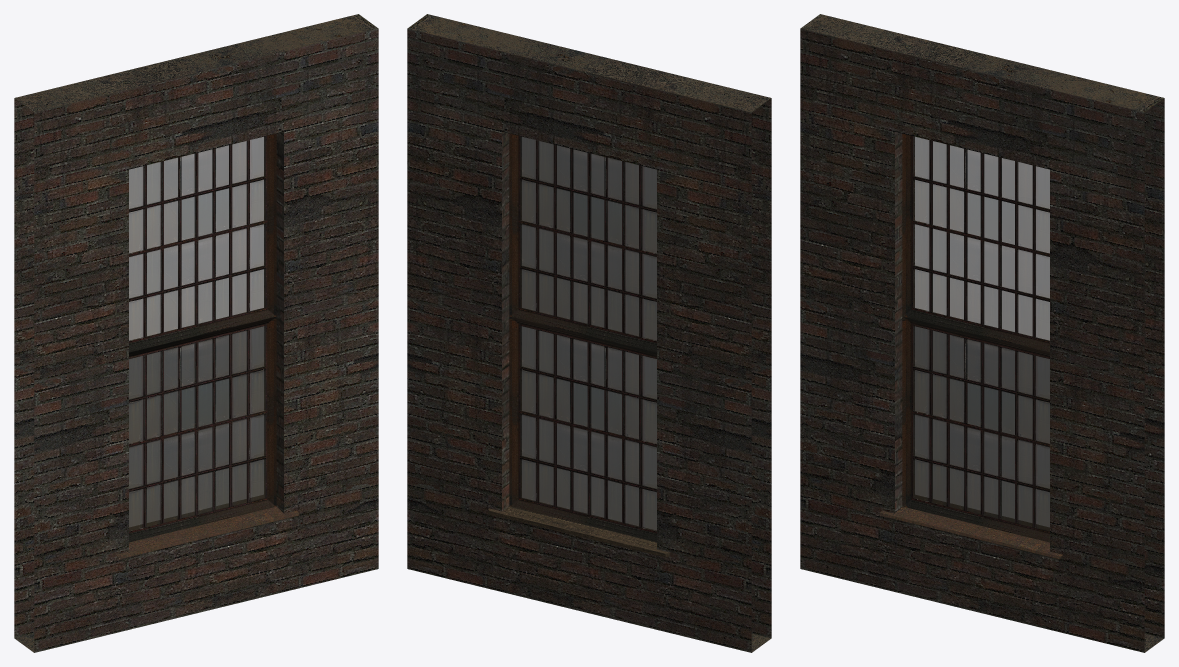
File: wall_hs_1_m_2.glb
3 views of the same model, side by side, from view 1: azimuth 30°, elevation 25°; view 2: azimuth 150°, elevation 25°; view 3: azimuth 330°, elevation 25° (orthographic).
Visible parts, largest first — view 1: wall_hs_1_m_2; view 2: wall_hs_1_m_2; view 3: wall_hs_1_m_2.
Part boxes in pixels (x1,y1,x2,y2): wall_hs_1_m_2: [14, 14, 378, 652]; wall_hs_1_m_2: [407, 14, 771, 652]; wall_hs_1_m_2: [800, 14, 1164, 652].
Bounding box in the file's own units: 4 × 6 × 0.505.
Materials: 6 (6 with a texture image).
